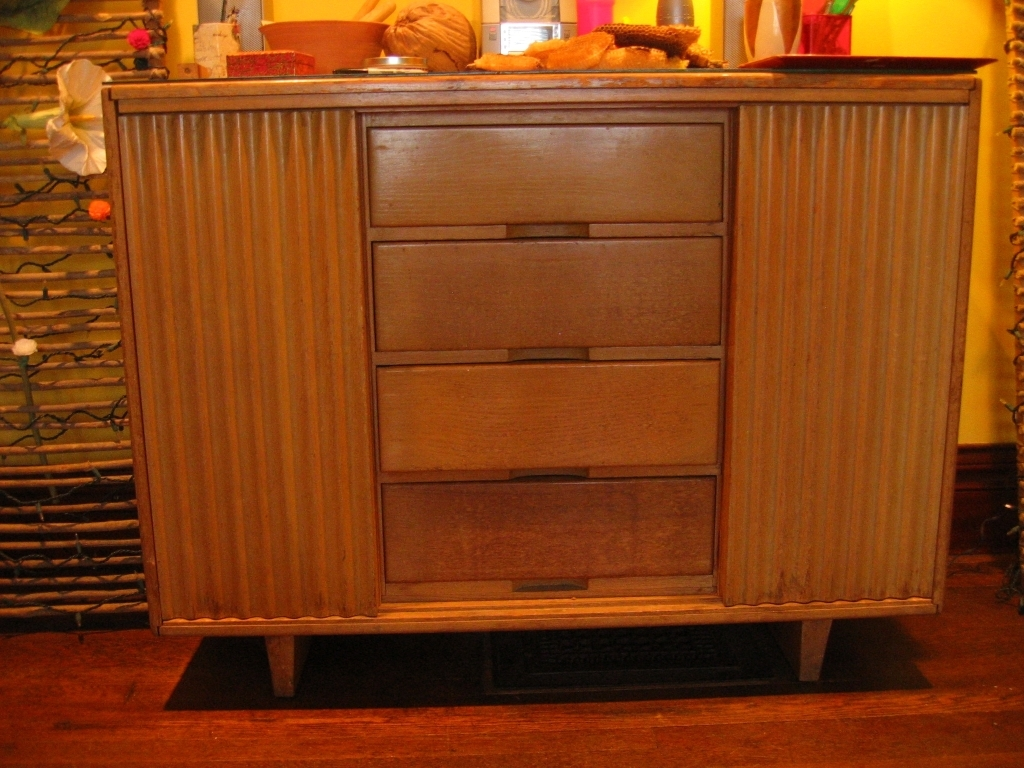cabinet door: (370, 234, 723, 345), (380, 366, 717, 468), (366, 124, 718, 217), (381, 484, 713, 575)
handle: (502, 203, 590, 250), (499, 457, 595, 499), (498, 331, 594, 364), (507, 565, 595, 598)
